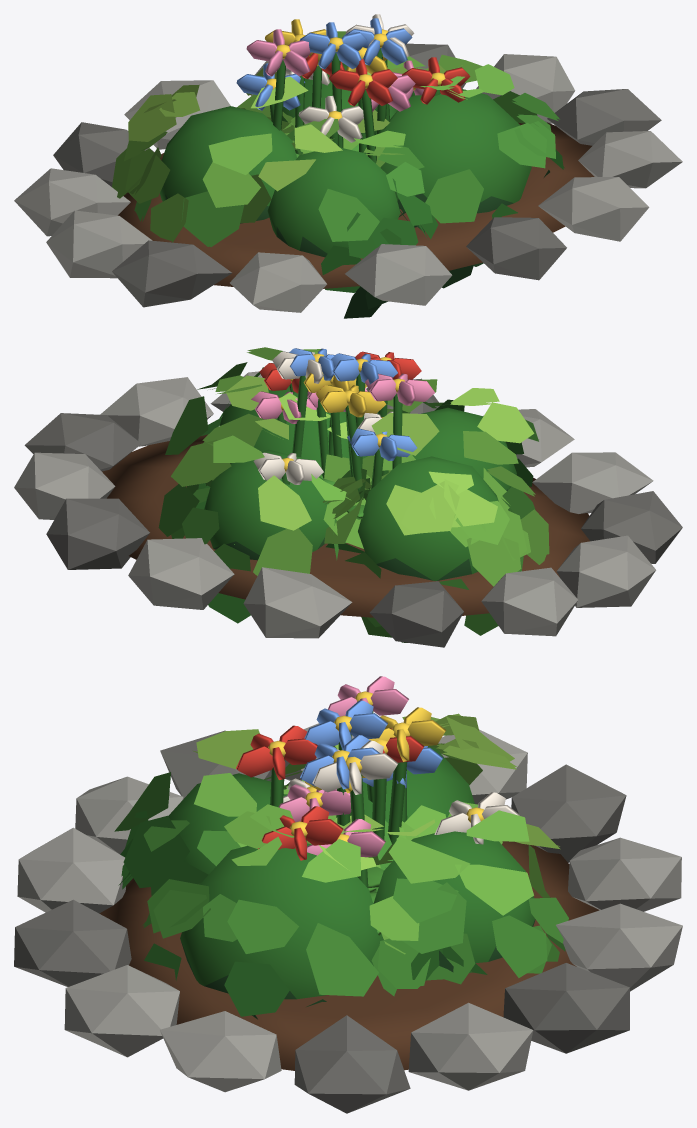
File: FlowerBed.glb
3 renders of one model, top to bottom at view 1: azimuth 30°, elevation 25°; view 2: azimuth 150°, elevation 25°; view 3: azimuth 270°, elevation 25°, orthographic. The views are drawn at different scales.
Parts seen in each view (by area): view 1: Body, Rustle; view 2: Body, Rustle; view 3: Body, Rustle.
Boxes of the visible parts, x1,y1,x2,y2 form: Body: (14, 43, 682, 312); Rustle: (112, 14, 564, 318); Body: (14, 371, 682, 647); Rustle: (158, 347, 549, 642); Body: (14, 723, 682, 1113); Rustle: (114, 676, 568, 1019).
Bounding box in the file's own units: 3.96 × 1.55 × 3.1.
2 materials, 2 textured.
